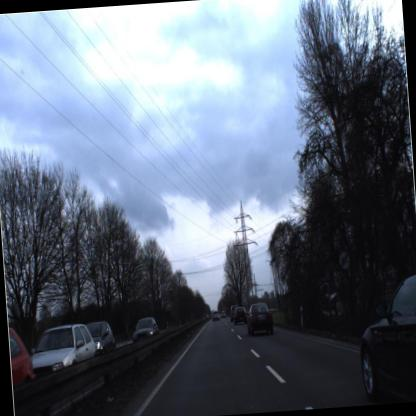other: (335, 244, 353, 272)
